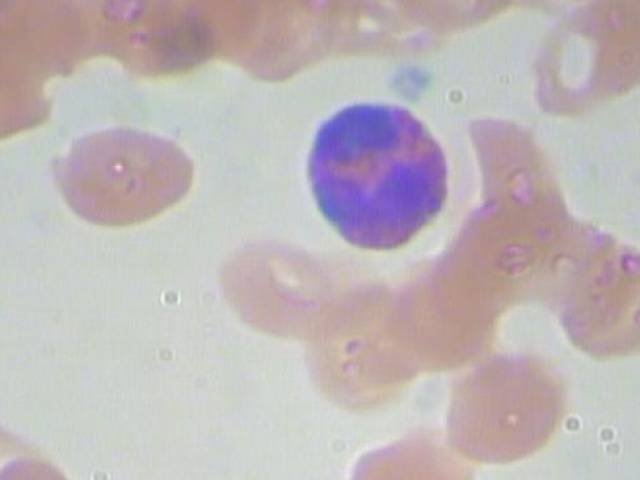RBC: (282, 277, 431, 417), (438, 106, 587, 246), (39, 122, 199, 241), (200, 222, 360, 340), (418, 346, 578, 464), (509, 0, 640, 118), (535, 237, 640, 355), (214, 0, 345, 85), (44, 0, 193, 61), (392, 0, 520, 36), (0, 410, 58, 480)
WBC: (298, 99, 456, 261)
